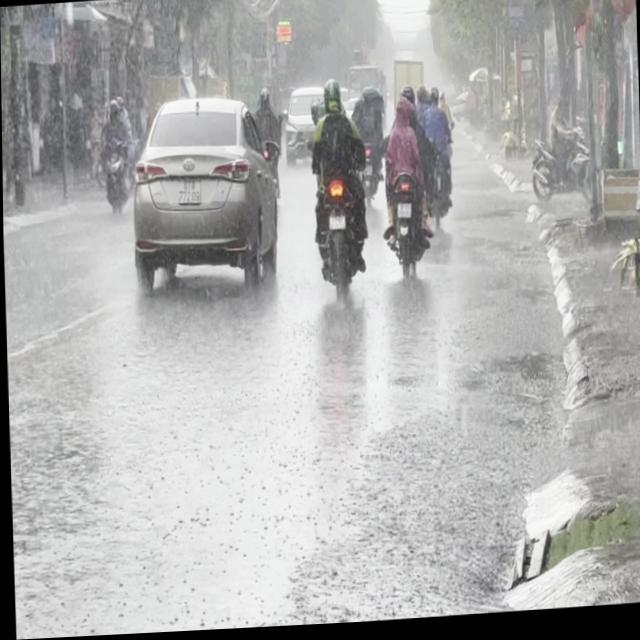helmet: (321, 79, 341, 113)
licenseplate: (304, 75, 368, 302)
nohelmet: (327, 217, 343, 233)
